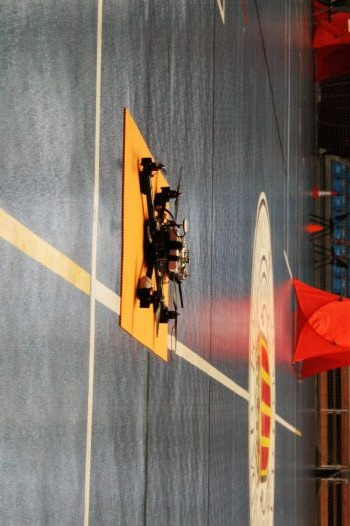drone: (136, 155, 192, 361)
